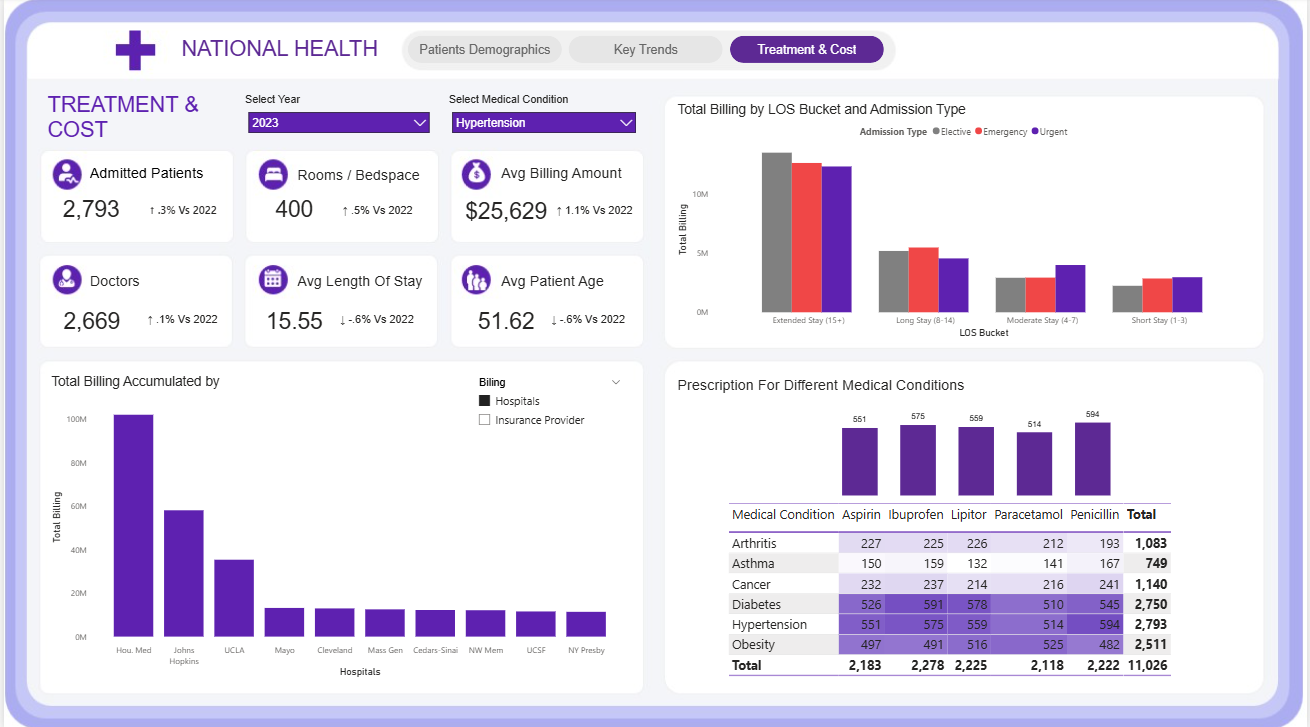

What the dashboard file says about the page in this screenshot:
{"tool":"powerbi","page":{"name":"Treatment & Cost","canvas":[1920,1080],"ordinal":2},"visuals":[{"type":"clusteredColumnChart","fields":{"Category":["HealthData.Hospitals"],"Y":["DAX.Total Billing"]},"box":[64.4,554,857.7,452.8],"z":0},{"type":"pageNavigator","box":[594.5,57.1,701.2,40.5],"z":1000},{"type":"textbox","box":[242.9,53.4,325.8,47.9],"z":2000},{"type":"card","fields":{"Values":["DAX.Admitted Patients"]},"box":[39.1,279.4,179.7,64.5],"z":3000},{"type":"textbox","box":[121.1,242.2,193.4,56.7],"z":4000},{"type":"textbox","box":[427.8,244.2,193.4,56.7],"z":5000},{"type":"textbox","box":[121.1,400.5,193.4,56],"z":6000},{"type":"textbox","box":[427,401.2,209.8,55.2],"z":7000},{"type":"textbox","box":[726.7,400.5,193.4,56],"z":8000},{"type":"textbox","box":[726.7,242.2,208,56],"z":9000},{"type":"card","fields":{"Values":["DAX.Doctors"]},"box":[39.1,443.5,181.7,64.5],"z":10000},{"type":"card","fields":{"Values":["DAX.Avg LOS"]},"box":[336,443.5,181.7,64.5],"z":11000},{"type":"card","fields":{"Values":["DAX.Rooms"]},"box":[336,279.4,181.7,64.5],"z":12000},{"type":"card","fields":{"Values":["DAX.Avg Billing Amt"]},"box":[650.6,281.3,179.7,64.5],"z":13000},{"type":"card","fields":{"Values":["DAX.Average age"]},"box":[650.6,443.5,179.7,64.5],"z":14000},{"type":"card","fields":{"Values":["DAX.Adm YoY"]},"box":[191.4,292.6,145.4,46],"z":15000},{"type":"card","fields":{"Values":["DAX.LOS YoY"]},"box":[476.7,453.2,145,46],"z":16000},{"type":"card","fields":{"Values":["DAX.Doc YoY"]},"box":[191.4,452.8,143.6,46],"z":17000},{"type":"card","fields":{"Values":["DAX.Room YoY"]},"box":[476.7,292.6,147.2,46],"z":18000},{"type":"card","fields":{"Values":["DAX.Bill YoY"]},"box":[795.1,292.6,149.1,46],"z":19000},{"type":"card","fields":{"Values":["DAX.Age YoY"]},"box":[787.3,453.2,145,46],"z":20000},{"type":"textbox","box":[58.9,136.2,277.9,82.8],"z":21000},{"type":"slicer","title":"Select Medical Condition","fields":{"Values":["DimCondition.Medical Condition"]},"box":[649.7,141.7,290.8,73.6],"z":22000},{"type":"slicer","title":"Select Year","fields":{"Values":["Calendar.Year"]},"box":[349.7,141.7,287.1,64.4],"z":23000},{"type":"clusteredColumnChart","fields":{"Y":["DAX.Total Billing"],"Category":["HealthData.LOS Bucket"],"Series":["HealthData.Admission Type"]},"box":[986.5,154.6,857.7,353.4],"z":24000},{"type":"slicer","fields":{"Values":["Biling.Biling"]},"box":[686.5,554,233.7,93.9],"z":25000},{"type":"pivotTable","fields":{"Rows":["DimCondition.Medical Condition"],"Columns":["HealthData.Medication"],"Values":["DAX.Admitted Patients"]},"box":[1062,739.9,673.6,266.9],"z":26000},{"type":"clusteredColumnChart","fields":{"Y":["DAX.Admitted Patients"],"Category":["HealthData.Medication"]},"box":[1229.5,594.5,408.6,145.4],"z":27000},{"type":"textbox","box":[986.5,554,456.4,40.5],"z":28000}]}

Visuals, with their boxes in screenshot pixels (x1, y1, x2, y2), scaled from the page's 1920x1080 canvas onto the 1310x727 screenshot:
clusteredColumnChart - HealthData.Hospitals x DAX.Total Billing: <region>44, 373, 629, 678</region>
pageNavigator: <region>406, 38, 884, 66</region>
textbox: <region>166, 36, 388, 68</region>
card - DAX.Admitted Patients: <region>27, 188, 149, 231</region>
textbox: <region>83, 163, 215, 201</region>
textbox: <region>292, 164, 424, 203</region>
textbox: <region>83, 270, 215, 307</region>
textbox: <region>291, 270, 434, 307</region>
textbox: <region>496, 270, 628, 307</region>
textbox: <region>496, 163, 638, 201</region>
card - DAX.Doctors: <region>27, 299, 151, 342</region>
card - DAX.Avg LOS: <region>229, 299, 353, 342</region>
card - DAX.Rooms: <region>229, 188, 353, 231</region>
card - DAX.Avg Billing Amt: <region>444, 189, 567, 233</region>
card - DAX.Average age: <region>444, 299, 567, 342</region>
card - DAX.Adm YoY: <region>131, 197, 230, 228</region>
card - DAX.LOS YoY: <region>325, 305, 424, 336</region>
card - DAX.Doc YoY: <region>131, 305, 229, 336</region>
card - DAX.Room YoY: <region>325, 197, 426, 228</region>
card - DAX.Bill YoY: <region>542, 197, 644, 228</region>
card - DAX.Age YoY: <region>537, 305, 636, 336</region>
textbox: <region>40, 92, 230, 147</region>
"Select Medical Condition" slicer: <region>443, 95, 642, 145</region>
"Select Year" slicer: <region>239, 95, 434, 139</region>
clusteredColumnChart - DAX.Total Billing x HealthData.LOS Bucket: <region>673, 104, 1258, 342</region>
slicer - Biling.Biling: <region>468, 373, 628, 436</region>
pivotTable - DimCondition.Medical Condition x HealthData.Medication: <region>725, 498, 1184, 678</region>
clusteredColumnChart - DAX.Admitted Patients x HealthData.Medication: <region>839, 400, 1118, 498</region>
textbox: <region>673, 373, 984, 400</region>
